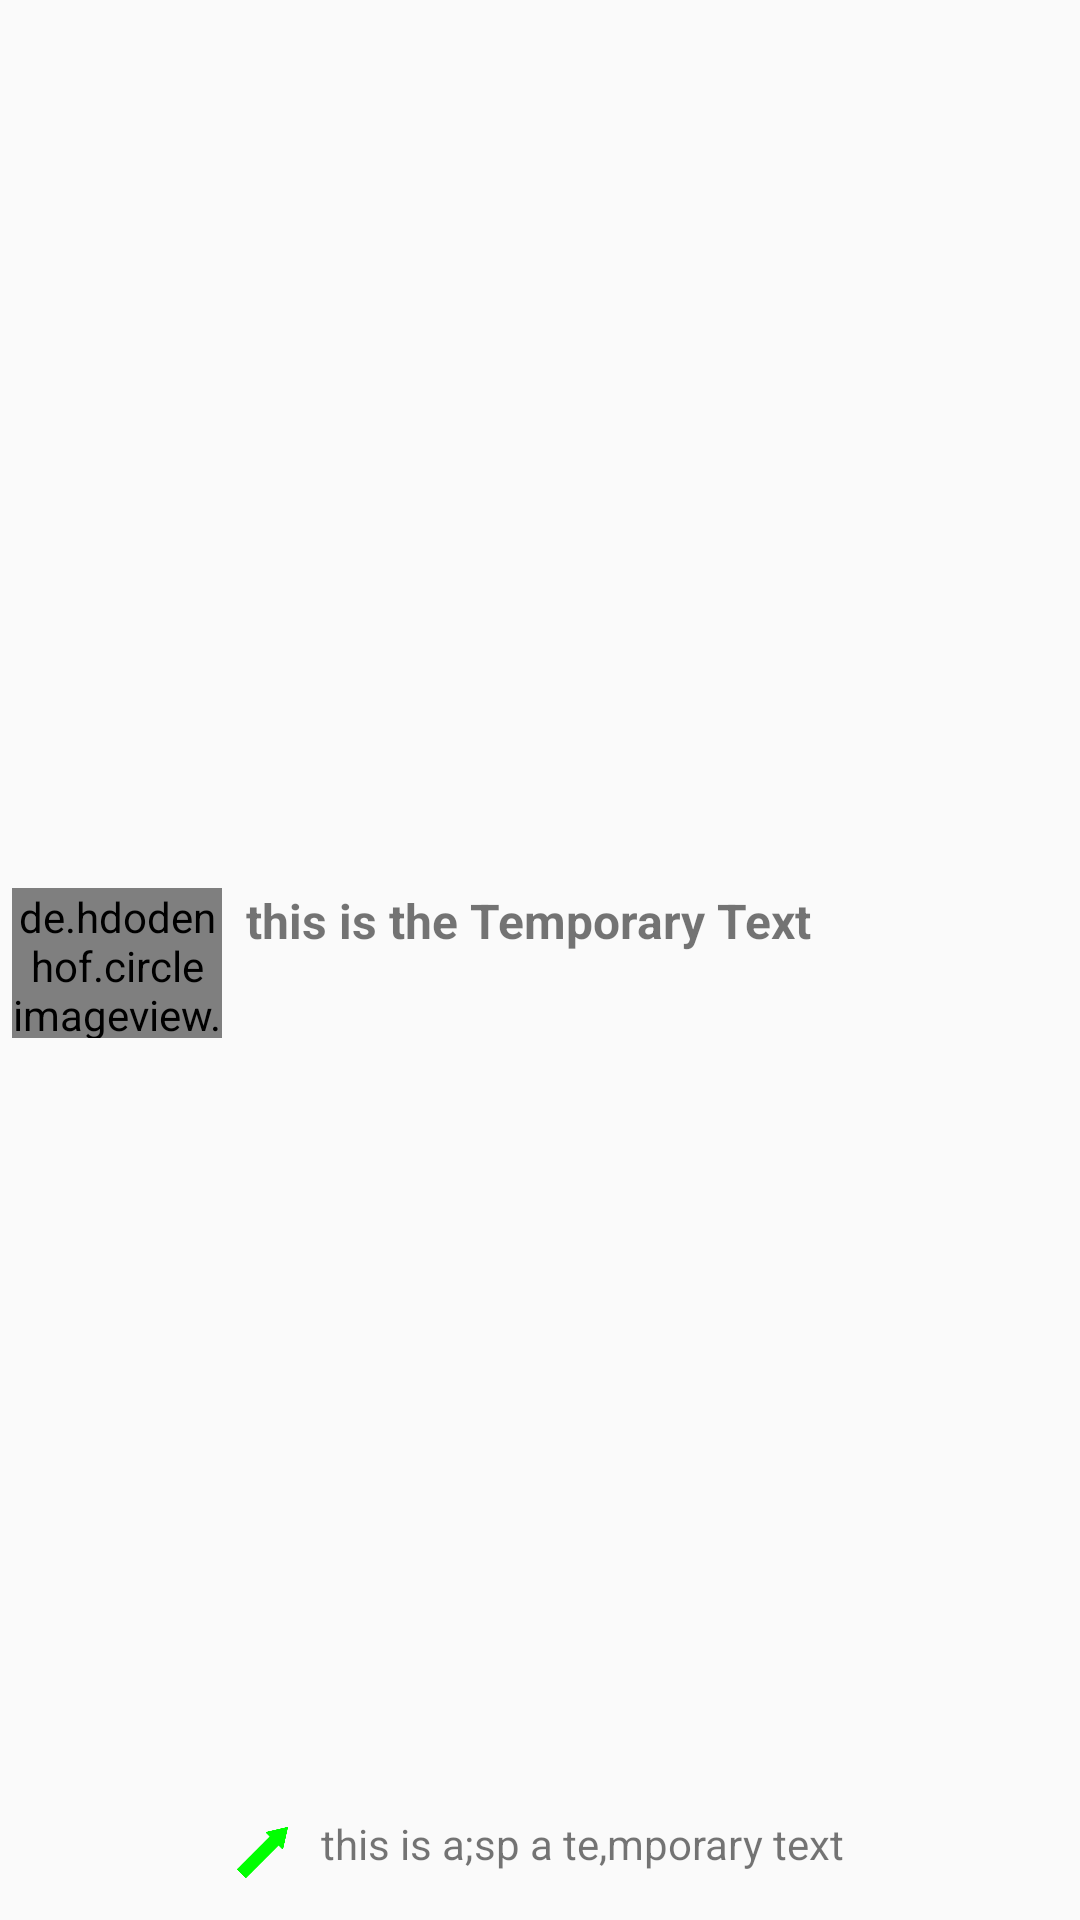

Point at icon controls on the screen. Image size 1080px x 1920px, points as (x=x, y=y).
arrow: (x=262, y=1852)
